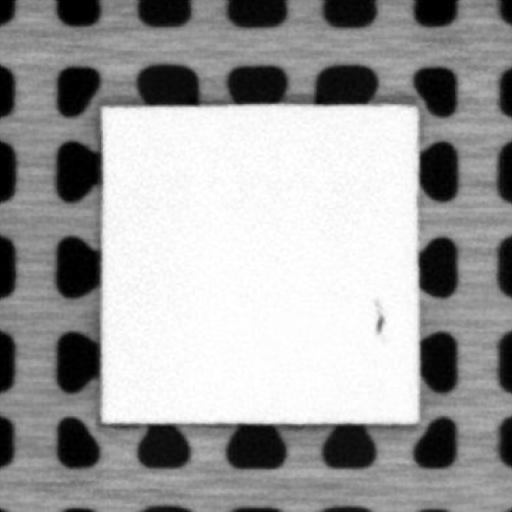DIE_INK: (371, 310, 389, 336)
